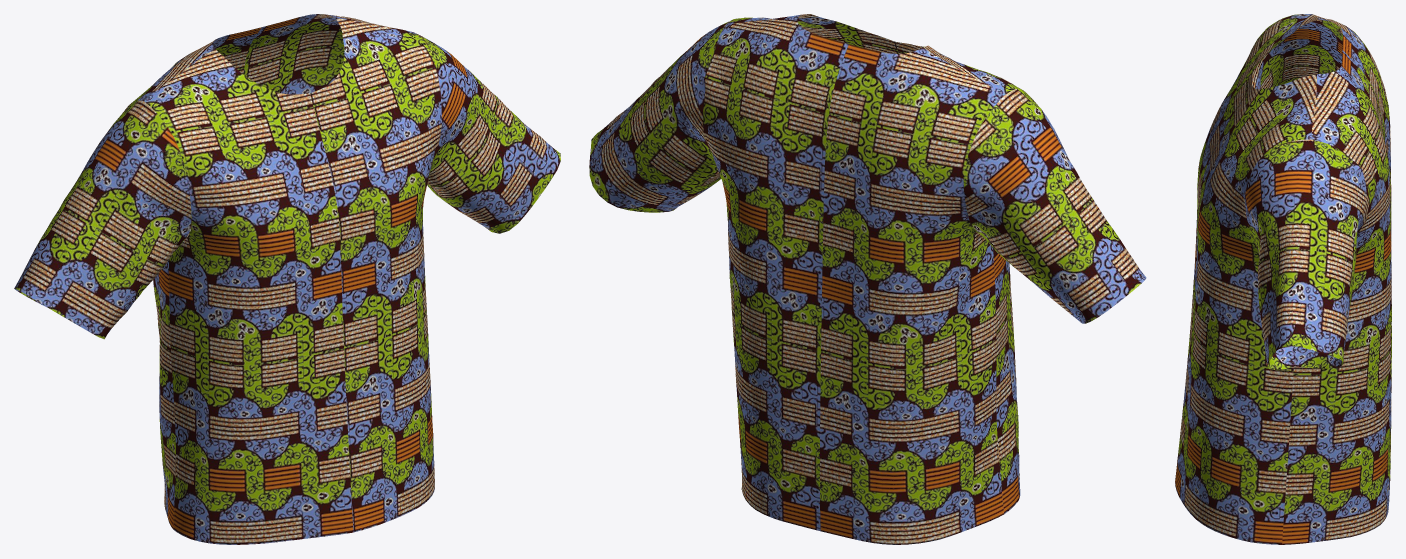
Rendered from Shirt3.glb.
3 views of the same model, side by side, from view 1: azimuth 30°, elevation 25°; view 2: azimuth 150°, elevation 25°; view 3: azimuth 270°, elevation 25° (orthographic). The views are drawn at different scales.
Parts seen in each view (by area): view 1: shirt; view 2: shirt; view 3: shirt.
Part boxes in pixels (x1,y1,x2,y2): shirt: (14, 14, 560, 544); shirt: (589, 14, 1146, 544); shirt: (1175, 14, 1391, 544).
Bounding box in the file's own units: 3.83 × 3.15 × 1.39.
Materials: 1 (1 with a texture image).
